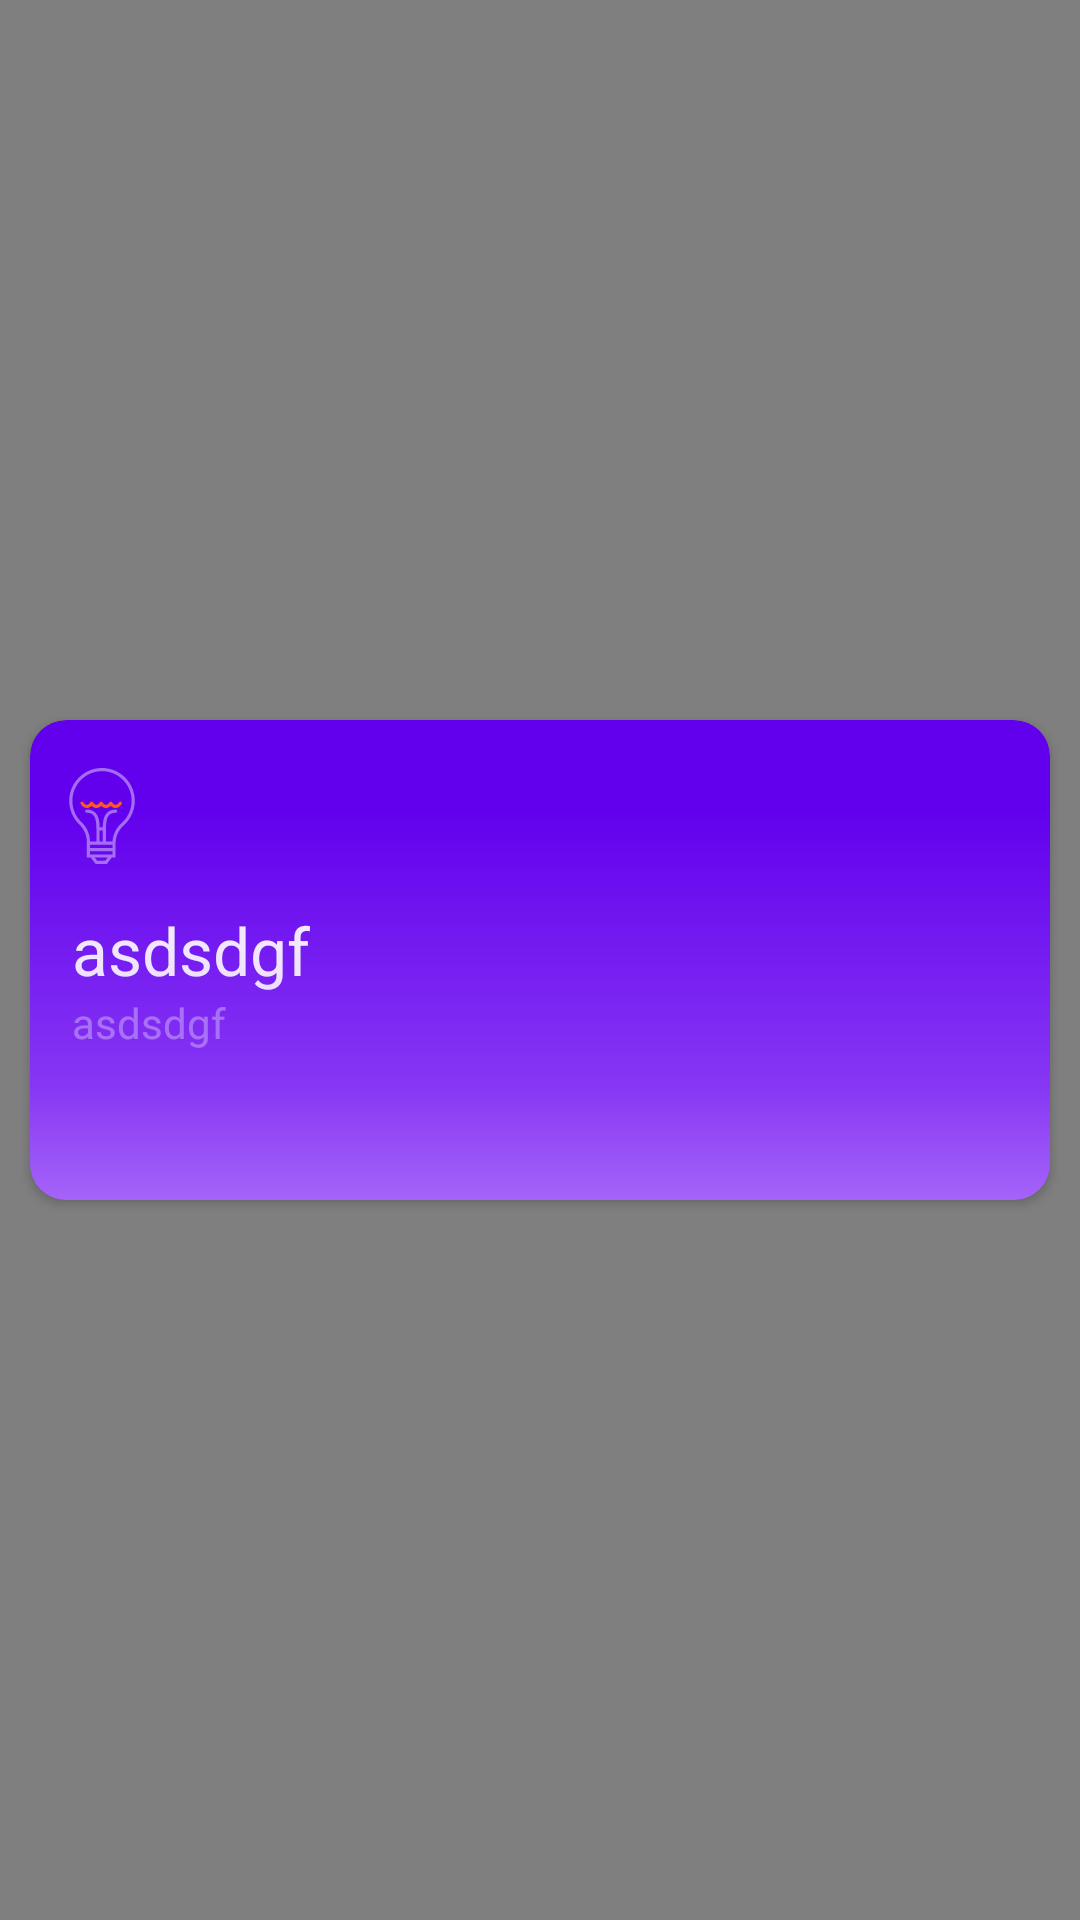

Icons on this 1080px x 1920px Android screen, each with its box as [x1=x1, y1=y1, x2=x2, y2=y2]:
bulb: [x1=69, y1=768, x2=135, y2=864]
